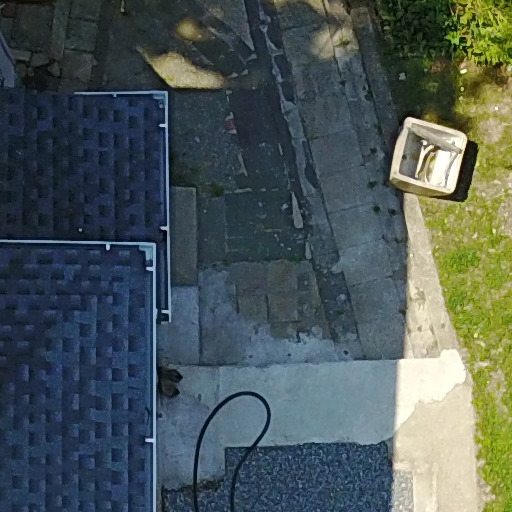container: (384, 106, 480, 203)
